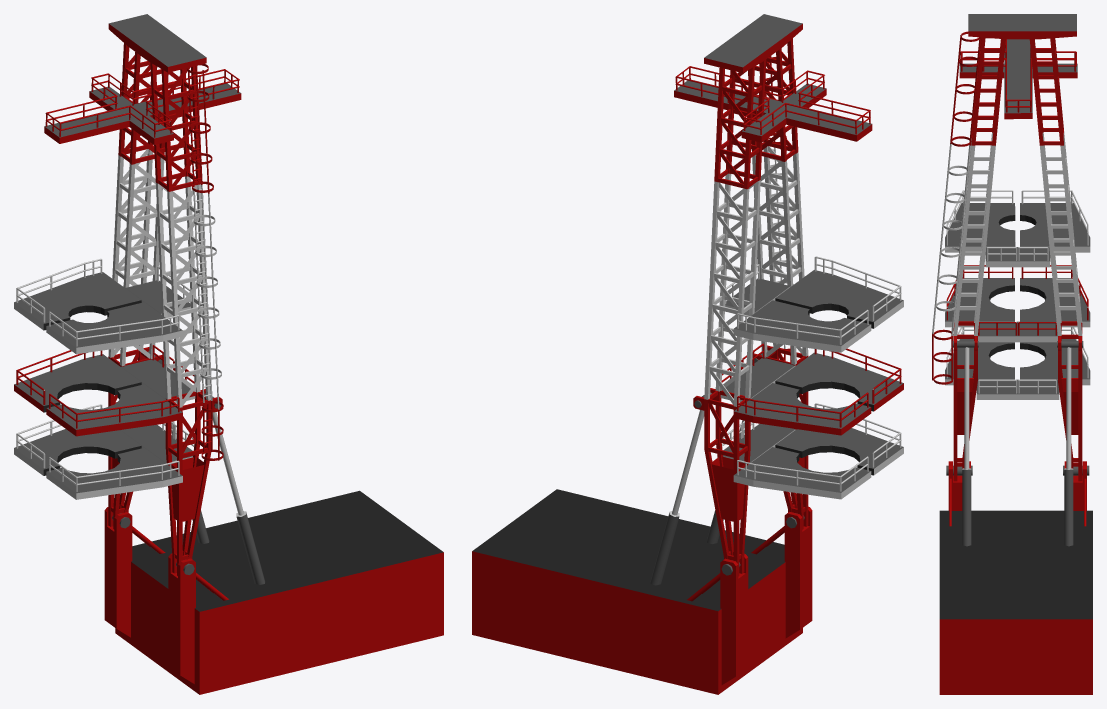
The model's file is Gantry.fbx.
3 renders of one model, left to right at view 1: azimuth 30°, elevation 25°; view 2: azimuth 150°, elevation 25°; view 3: azimuth 270°, elevation 25°, orthographic. The views are drawn at different scales.
Parts seen in each view (by area): view 1: Box004; view 2: Box004; view 3: Box004.
Boxes of the visible parts, bbox=[...] form: Box004: bbox=[14, 14, 443, 694]; Box004: bbox=[472, 14, 903, 694]; Box004: bbox=[932, 14, 1092, 694].
Bounding box in the file's own units: 1994 × 3319 × 856.
